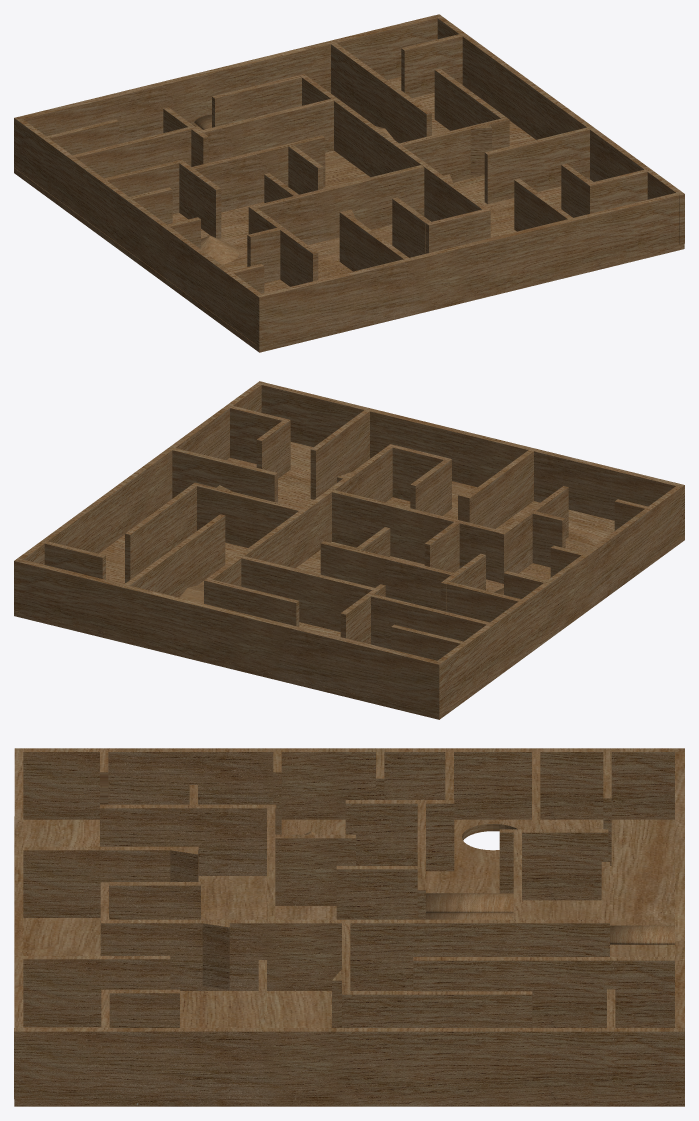
The model's file is Labyrinth_3.obj.
3 renders of one model, top to bottom at view 1: azimuth 30°, elevation 25°; view 2: azimuth 150°, elevation 25°; view 3: azimuth 270°, elevation 25°, orthographic. The views are drawn at different scales.
Visible parts, largest first — view 1: Labyrinth_lvl3a_Labyrinth_1.1; view 2: Labyrinth_lvl3a_Labyrinth_1.1; view 3: Labyrinth_lvl3a_Labyrinth_1.1.
Boxes of the visible parts, x1,y1,x2,y2 form: Labyrinth_lvl3a_Labyrinth_1.1: (14, 14, 684, 352); Labyrinth_lvl3a_Labyrinth_1.1: (14, 381, 684, 719); Labyrinth_lvl3a_Labyrinth_1.1: (14, 748, 684, 1106).
Size of the model in its own units: 24.71 by 3.06 by 24.72.
Materials: 1 (1 with a texture image).
